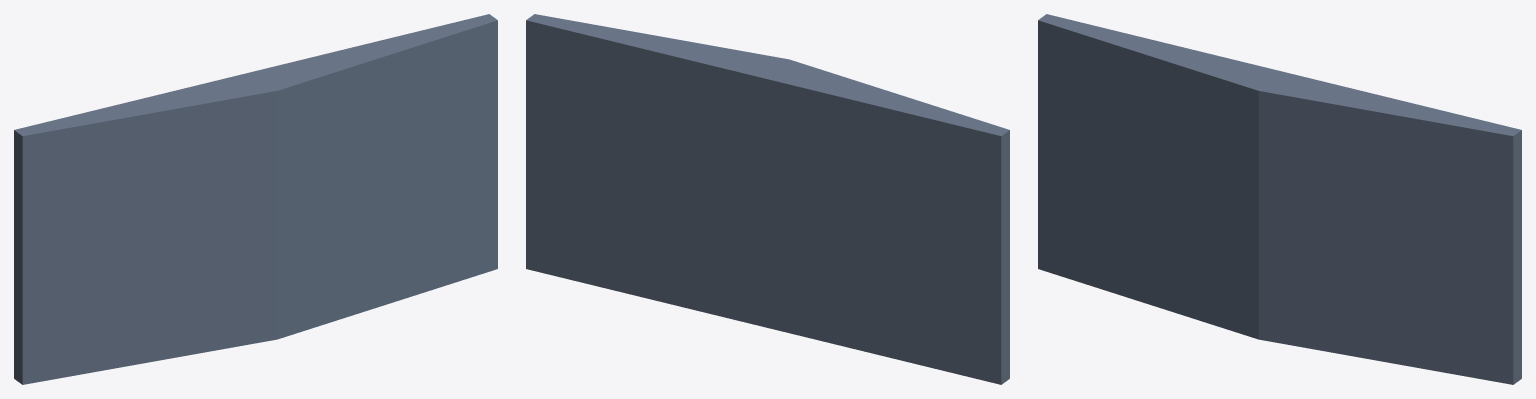
The model's file is hill_main_west.obj.
The picture shows the model from 3 angles, left to right: view 1: azimuth 30°, elevation 25°; view 2: azimuth 150°, elevation 25°; view 3: azimuth 330°, elevation 25°; orthographic projection.
Parts seen in each view (by area): view 1: solid_terrain; view 2: solid_terrain; view 3: solid_terrain.
Part boxes in pixels (<box>): solid_terrain: <box>14,14,497,384</box>; solid_terrain: <box>526,14,1009,384</box>; solid_terrain: <box>1038,14,1521,384</box>.
Bounding box in the file's own units: 6.4 × 3.2 × 0.6.
